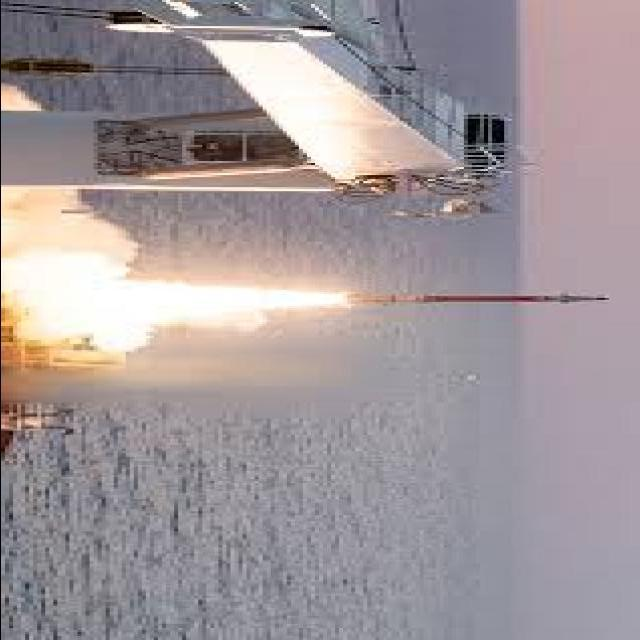missile: (342, 291, 615, 306)
